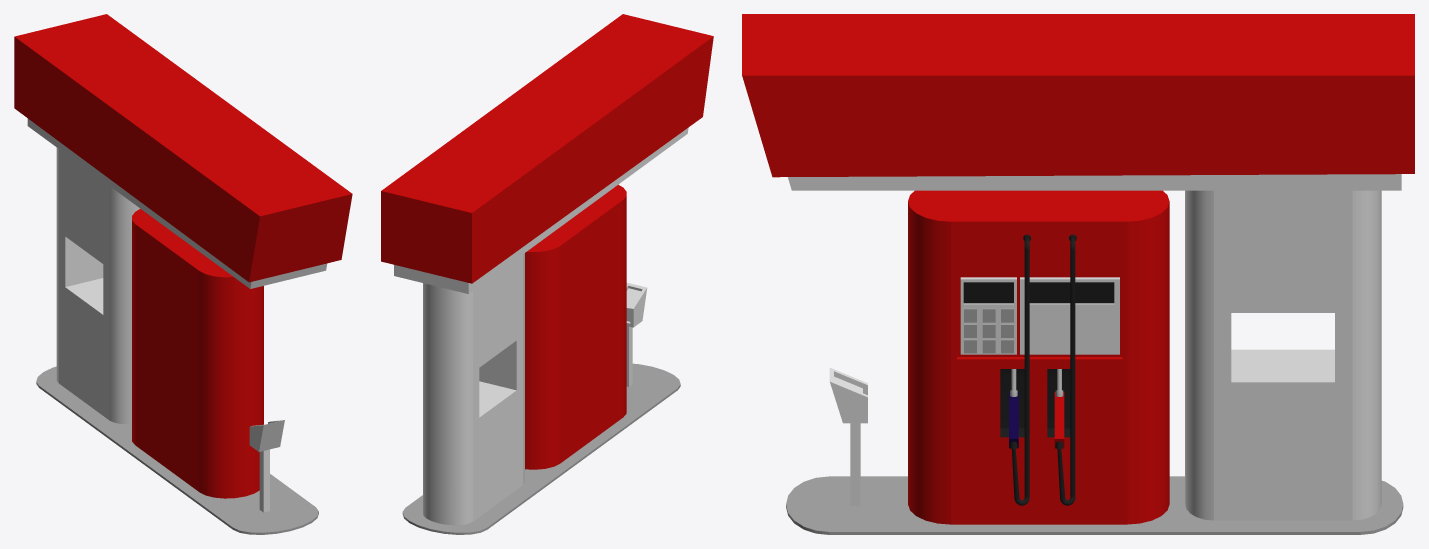
File: low poly gas station.fbx
The picture shows the model from 3 angles, left to right: view 1: azimuth 30°, elevation 25°; view 2: azimuth 150°, elevation 25°; view 3: azimuth 270°, elevation 25°; orthographic projection. The views are drawn at different scales.
Visible parts, largest first — view 1: pCube16, pCylinder5, pCylinder8, pCylinder1, pCube15; view 2: pCube16, pCylinder5, pCylinder8, pCylinder1, pCube15; view 3: pCube16, pCylinder5, pCylinder8, pCylinder1, pCube14, pCube5, polySurface5, polySurface4, pCube15.
Boxes of the visible parts, x1,y1,x2,y2 form: pCube16: [14, 14, 352, 288]; pCylinder5: [132, 209, 263, 498]; pCylinder8: [56, 147, 140, 424]; pCylinder1: [36, 366, 318, 534]; pCube15: [249, 420, 284, 512]; pCube16: [381, 14, 713, 293]; pCylinder5: [525, 184, 626, 469]; pCylinder8: [423, 253, 524, 525]; pCylinder1: [402, 363, 680, 534]; pCube15: [626, 282, 647, 386]; pCube16: [742, 14, 1414, 190]; pCylinder5: [908, 190, 1169, 524]; pCylinder8: [1185, 190, 1381, 520]; pCylinder1: [786, 476, 1403, 534]; pCube14: [1020, 277, 1119, 354]; pCube5: [960, 277, 1016, 354]; polySurface5: [1054, 234, 1076, 505]; polySurface4: [1009, 234, 1030, 505]; pCube15: [829, 367, 867, 506].
Bounding box in the file's own units: 4.09 × 14.07 × 18.56.
